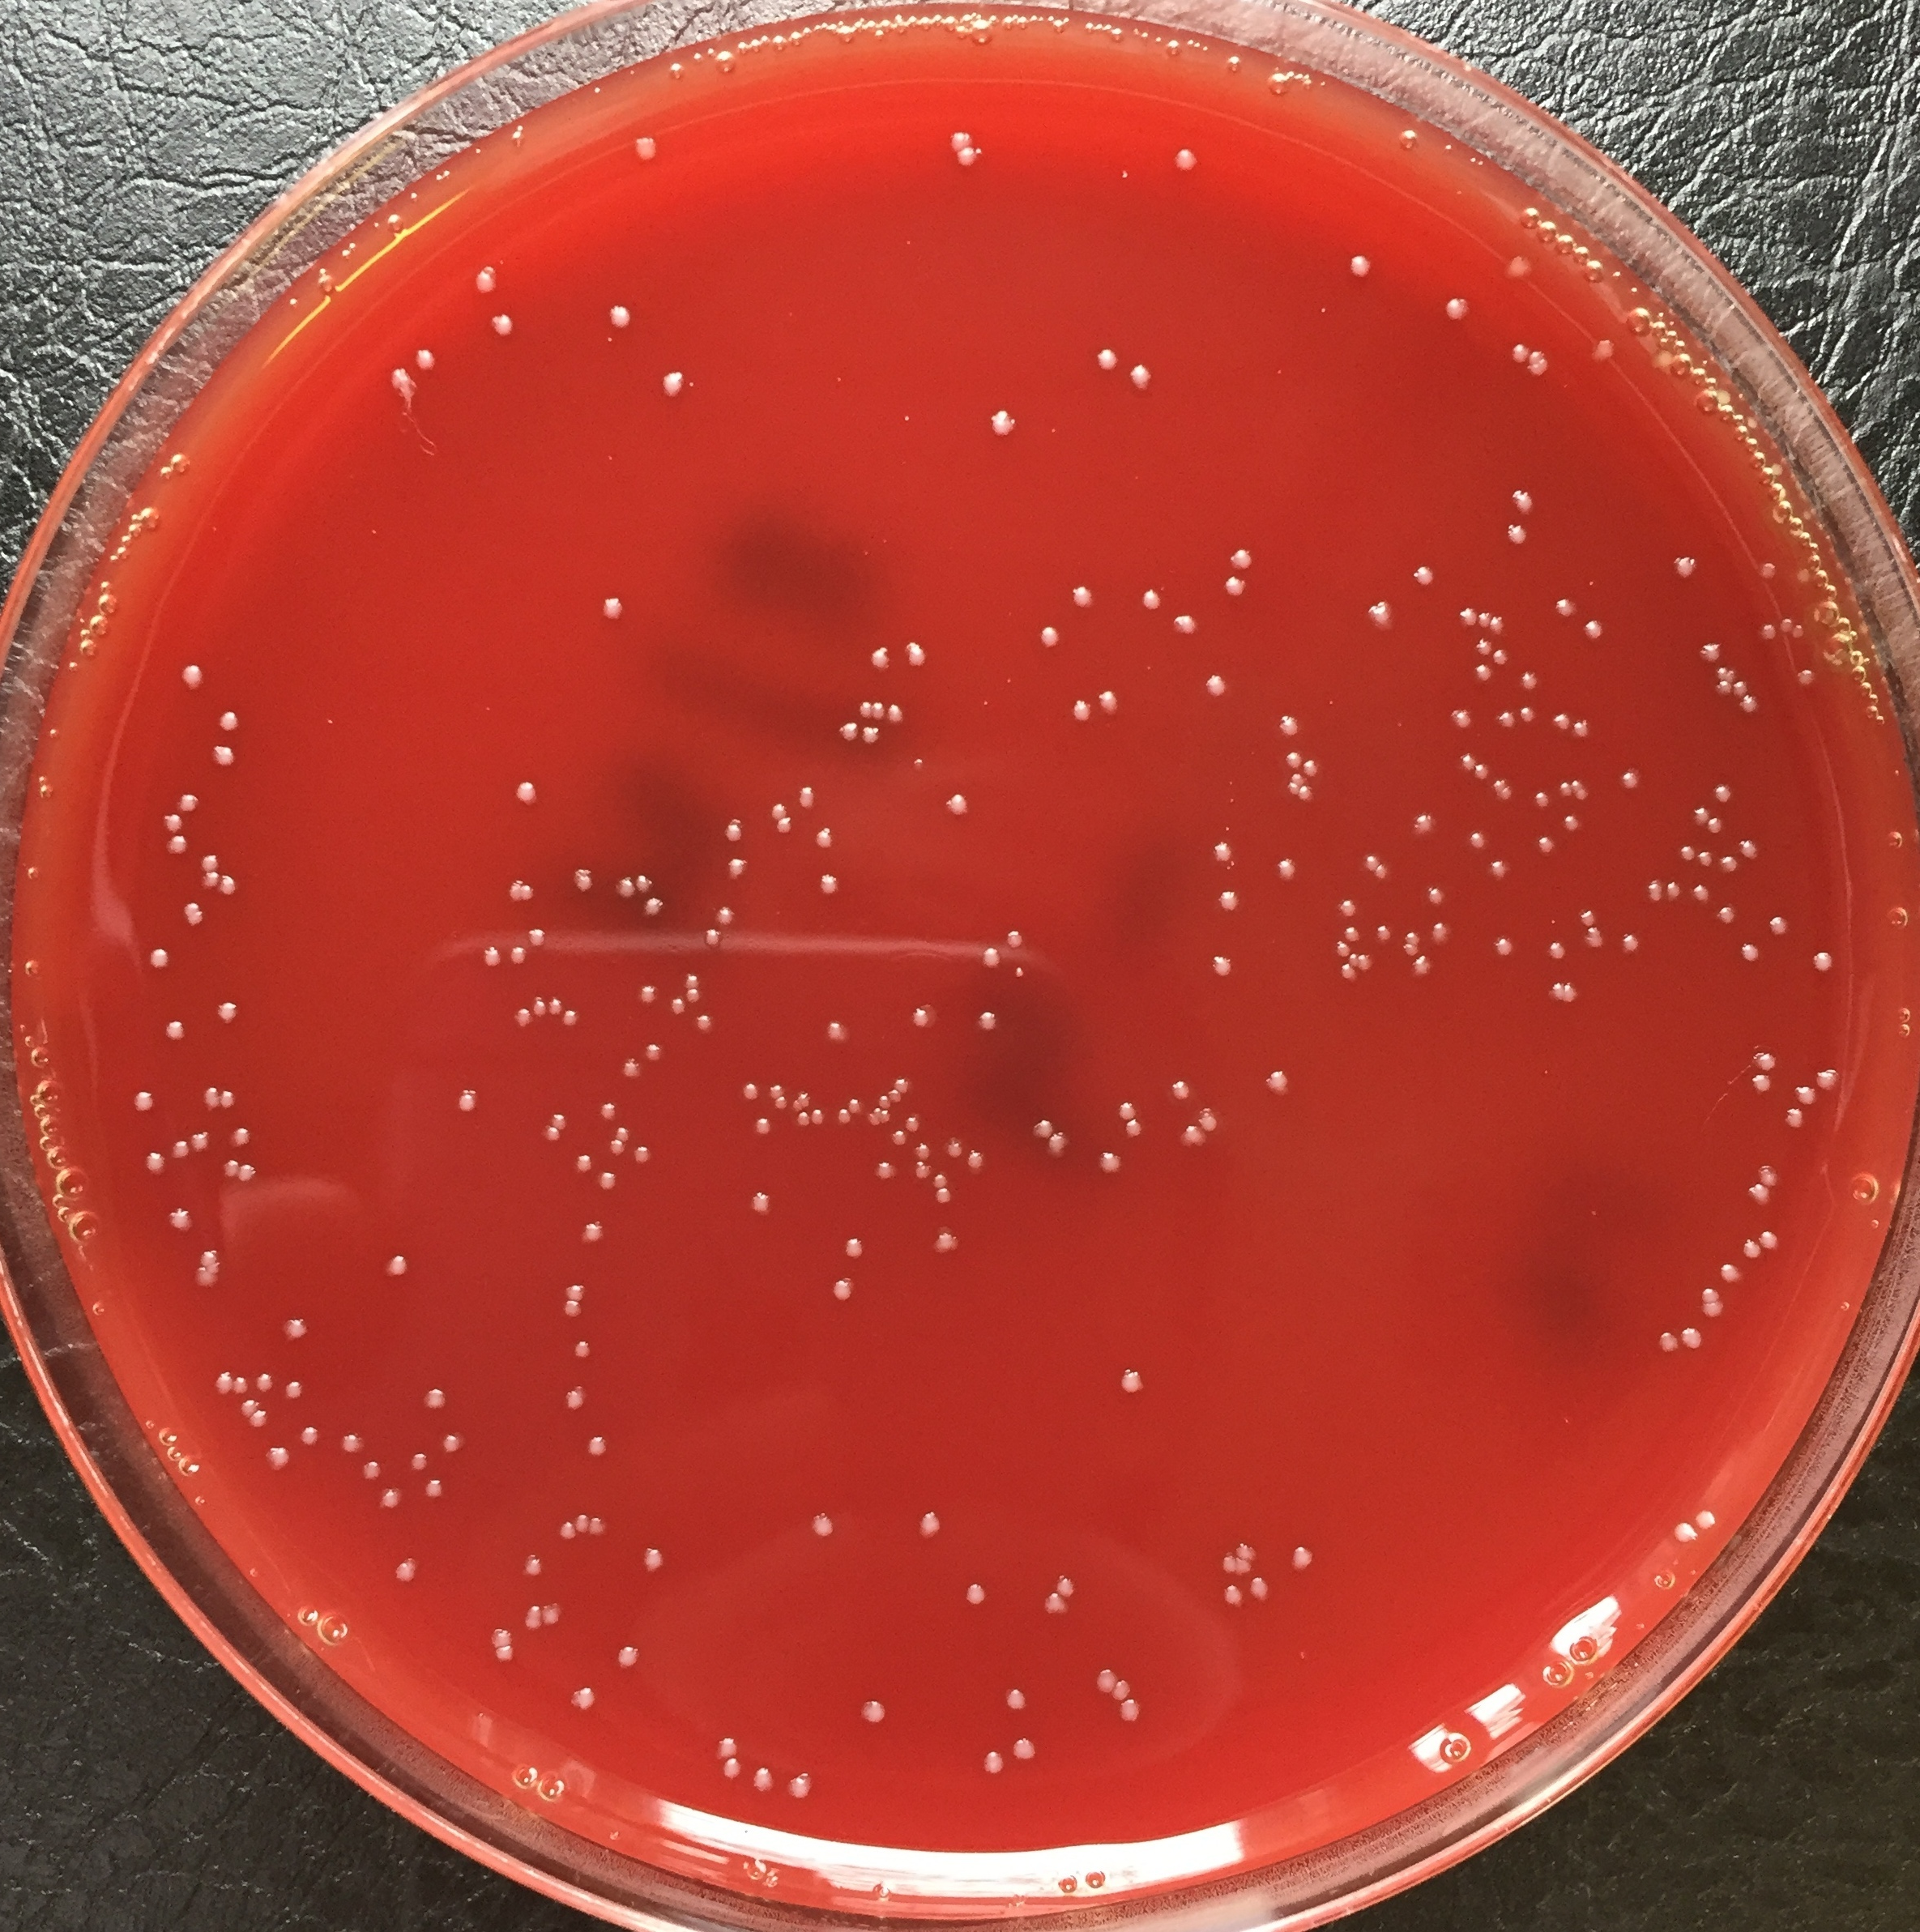sp23: (944, 1572, 1004, 1623), (557, 1681, 612, 1730), (897, 1498, 955, 1543), (207, 991, 255, 1044), (156, 1002, 200, 1055), (375, 1243, 417, 1297), (591, 292, 638, 339), (782, 1756, 821, 1814), (979, 396, 1032, 438), (744, 1180, 786, 1232), (654, 359, 695, 413), (155, 1194, 206, 1236), (591, 582, 629, 635), (802, 1500, 839, 1554), (624, 132, 668, 178), (271, 1306, 315, 1352), (1004, 1730, 1050, 1774), (1498, 512, 1537, 561), (1662, 1507, 1693, 1566), (1498, 246, 1540, 290), (468, 258, 506, 306), (1502, 478, 1553, 513), (1433, 290, 1475, 330), (506, 768, 545, 812), (610, 1633, 649, 1677), (925, 1229, 971, 1266), (1115, 1347, 1148, 1396), (215, 694, 255, 735), (905, 1000, 944, 1042), (142, 937, 181, 979), (976, 1735, 1006, 1790), (485, 309, 531, 345), (1166, 137, 1201, 183), (1581, 334, 1621, 373), (1280, 1536, 1319, 1577), (969, 1000, 1006, 1042), (167, 650, 204, 693), (941, 788, 979, 826), (1208, 946, 1245, 986), (749, 1754, 779, 1804), (802, 819, 846, 853), (832, 1229, 869, 1267), (1030, 622, 1071, 657), (1065, 582, 1106, 615), (1171, 606, 1204, 647), (949, 142, 985, 179), (1403, 552, 1440, 587), (575, 1217, 612, 1252), (862, 1695, 895, 1733), (1122, 360, 1162, 392), (1197, 670, 1229, 710), (141, 1144, 171, 1187), (121, 1079, 156, 1115), (1670, 541, 1704, 578), (995, 1677, 1029, 1714), (1342, 248, 1373, 287), (638, 1538, 668, 1579), (165, 788, 207, 816), (1083, 341, 1118, 374), (561, 1378, 593, 1415), (821, 1280, 872, 1303), (1526, 345, 1553, 389), (1225, 538, 1266, 566), (382, 359, 417, 390), (204, 738, 239, 770), (1094, 682, 1120, 724), (580, 1433, 615, 1464), (568, 863, 596, 902), (1698, 1493, 1720, 1543), (408, 339, 438, 374), (941, 118, 976, 148), (870, 1150, 895, 1192), (1261, 1065, 1291, 1099), (1037, 1593, 1071, 1623), (1482, 854, 1516, 884), (1208, 888, 1243, 916), (1248, 1575, 1271, 1617), (1273, 710, 1303, 742), (418, 1385, 450, 1415), (1363, 596, 1393, 628), (1065, 693, 1094, 726), (1804, 948, 1839, 974), (1275, 856, 1305, 886), (1167, 1071, 1197, 1100), (1447, 707, 1477, 737), (1618, 766, 1647, 796), (1538, 935, 1568, 965), (904, 640, 932, 672), (174, 898, 206, 926), (188, 1266, 220, 1294), (1544, 594, 1577, 621), (542, 1596, 566, 1631), (1218, 577, 1248, 605), (1004, 921, 1032, 951), (568, 1338, 600, 1364), (517, 1547, 543, 1579), (155, 832, 186, 858), (457, 1085, 482, 1118), (1132, 589, 1166, 614), (1653, 1329, 1677, 1362), (1679, 1322, 1704, 1355), (1178, 1123, 1206, 1151), (1431, 918, 1459, 946), (376, 1484, 404, 1512), (1749, 1072, 1778, 1100), (1092, 1144, 1118, 1174), (1781, 1104, 1807, 1134), (608, 870, 633, 902), (721, 816, 745, 847), (218, 1085, 243, 1116), (390, 1554, 415, 1586), (638, 897, 672, 919), (1116, 1695, 1139, 1728), (1718, 1259, 1741, 1292), (526, 919, 552, 948), (1051, 1570, 1078, 1598), (1746, 1183, 1774, 1209), (1503, 339, 1528, 369), (438, 1433, 468, 1457), (262, 1445, 292, 1470), (1792, 1074, 1816, 1104), (557, 1299, 589, 1322), (520, 1600, 543, 1631), (1739, 1236, 1762, 1267), (1456, 601, 1477, 635), (816, 870, 842, 897), (717, 1756, 744, 1783), (1090, 1668, 1116, 1695), (1618, 930, 1644, 956), (1755, 1157, 1781, 1183), (716, 1735, 744, 1760), (1584, 612, 1609, 640), (1816, 1065, 1841, 1093), (884, 696, 905, 728), (1414, 814, 1435, 846), (1491, 928, 1512, 960), (721, 854, 747, 879), (615, 1053, 640, 1079), (195, 844, 222, 868), (229, 1122, 253, 1148), (215, 1366, 232, 1403), (251, 1368, 276, 1394), (280, 1371, 304, 1398), (1760, 1224, 1778, 1260), (821, 1018, 844, 1046), (561, 1007, 584, 1035), (640, 1039, 668, 1062), (1215, 839, 1236, 868), (220, 868, 241, 898), (798, 777, 816, 812), (153, 814, 185, 833), (487, 1621, 512, 1645), (1231, 1538, 1255, 1563), (1698, 640, 1723, 665), (594, 1169, 621, 1192), (250, 1410, 273, 1436), (1581, 926, 1604, 953), (482, 941, 503, 969), (633, 868, 654, 897), (837, 715, 858, 744), (1414, 953, 1435, 981), (702, 926, 723, 955), (967, 1144, 988, 1173), (561, 1276, 589, 1297), (424, 1475, 445, 1503), (199, 863, 220, 891), (1700, 1303, 1730, 1322), (1299, 786, 1322, 810), (1050, 1136, 1074, 1158), (636, 981, 659, 1006), (629, 1144, 652, 1169), (751, 1115, 774, 1139), (360, 1459, 383, 1484), (1517, 670, 1542, 693), (1493, 708, 1516, 733), (1572, 714, 1595, 738), (237, 1162, 258, 1188), (299, 1420, 320, 1447), (869, 643, 888, 672), (1201, 1104, 1220, 1132), (1032, 1111, 1051, 1139), (589, 1514, 608, 1542), (171, 1132, 190, 1160), (1109, 1677, 1138, 1696), (1688, 798, 1707, 826), (501, 875, 519, 905), (979, 942, 1002, 965), (1737, 937, 1760, 960), (1125, 1120, 1148, 1143), (1549, 708, 1572, 731), (1737, 837, 1760, 860), (506, 942, 527, 967), (513, 1007, 535, 1032), (594, 1100, 619, 1122), (1491, 647, 1516, 668), (1716, 902, 1737, 926), (1695, 1282, 1720, 1303), (237, 1394, 257, 1420), (1758, 554, 1772, 589), (1115, 1099, 1138, 1120), (693, 1013, 716, 1034), (573, 1151, 594, 1174), (199, 1245, 220, 1267), (1517, 705, 1540, 726), (1741, 694, 1762, 717), (1755, 1046, 1776, 1069), (1336, 895, 1356, 919), (545, 1109, 570, 1129), (941, 1136, 960, 1160), (188, 1127, 207, 1151), (1233, 1554, 1257, 1573), (1713, 784, 1737, 803), (1718, 856, 1737, 881), (202, 1085, 216, 1118), (913, 754, 930, 781), (865, 724, 883, 751), (341, 1429, 359, 1456), (1644, 877, 1662, 904), (1303, 756, 1324, 777), (1373, 918, 1389, 946), (712, 902, 733, 923), (1698, 847, 1714, 875), (1547, 974, 1561, 1006), (1331, 939, 1350, 962), (1428, 881, 1447, 904), (935, 1188, 955, 1211), (491, 1645, 513, 1665), (1220, 1580, 1240, 1603), (519, 879, 536, 904), (1456, 747, 1473, 772), (911, 1136, 928, 1160), (1538, 835, 1556, 860), (1797, 665, 1815, 689), (872, 696, 886, 726), (232, 1368, 248, 1394), (1677, 837, 1693, 863), (1561, 981, 1577, 1007), (1579, 907, 1598, 928), (913, 1158, 930, 1181), (1470, 636, 1493, 654), (1530, 786, 1547, 809), (1691, 884, 1714, 902), (1793, 564, 1811, 587), (670, 993, 686, 1018), (935, 1167, 951, 1192), (1760, 619, 1776, 643), (1466, 828, 1486, 847), (888, 1127, 907, 1146), (411, 1452, 431, 1471), (218, 1158, 237, 1178), (1489, 614, 1509, 633), (1574, 786, 1593, 805), (1473, 665, 1491, 686), (684, 984, 702, 1006), (1477, 605, 1491, 631), (1705, 816, 1723, 837), (1732, 677, 1749, 698), (1714, 665, 1735, 682), (1285, 747, 1301, 770), (1340, 926, 1363, 942), (547, 993, 563, 1016), (904, 1116, 927, 1132), (1665, 879, 1681, 902), (1776, 614, 1792, 636), (577, 1507, 587, 1540), (1769, 918, 1788, 935), (768, 796, 786, 816), (774, 817, 791, 837), (1401, 925, 1421, 942), (607, 1139, 624, 1158), (614, 1125, 633, 1143), (895, 1076, 914, 1093), (1714, 682, 1732, 701), (531, 995, 547, 1016), (543, 1129, 564, 1144), (559, 1519, 575, 1540), (1373, 865, 1391, 882), (1011, 962, 1027, 981), (682, 970, 702, 986), (809, 1108, 825, 1127), (1217, 1551, 1233, 1570), (856, 696, 870, 717), (1361, 951, 1375, 972), (1335, 967, 1352, 983), (768, 1097, 786, 1113), (795, 1111, 811, 1129), (1561, 814, 1579, 830), (1495, 791, 1514, 805), (798, 1085, 811, 1106), (1289, 770, 1305, 786), (1363, 853, 1378, 868), (740, 1081, 754, 1099), (768, 1081, 786, 1095), (835, 1106, 849, 1123), (846, 1097, 860, 1115), (1495, 772, 1509, 789), (1287, 777, 1299, 796), (1477, 761, 1489, 781), (1349, 949, 1361, 969), (1558, 779, 1568, 800), (1567, 777, 1582, 791), (1790, 622, 1804, 638), (789, 1097, 802, 1113), (888, 1090, 900, 1106), (879, 1109, 891, 1123), (1403, 944, 1415, 956), (867, 1115, 877, 1129), (877, 1092, 888, 1106), (872, 1106, 881, 1122)
